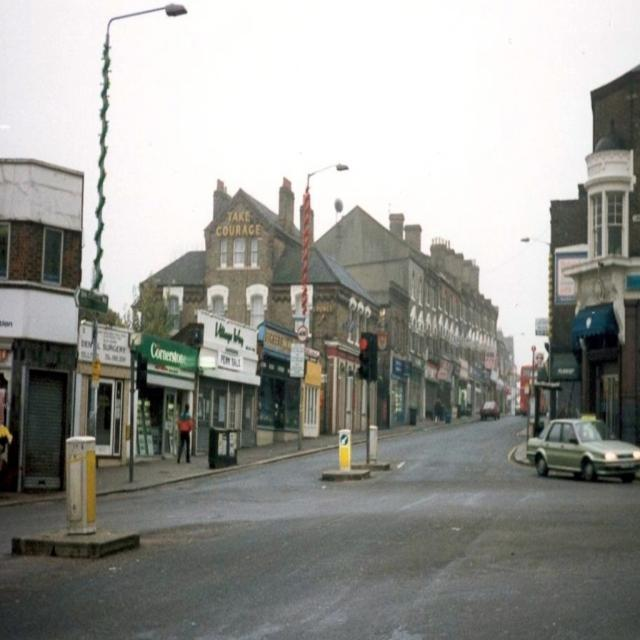traffic light: (358, 334, 370, 378)
